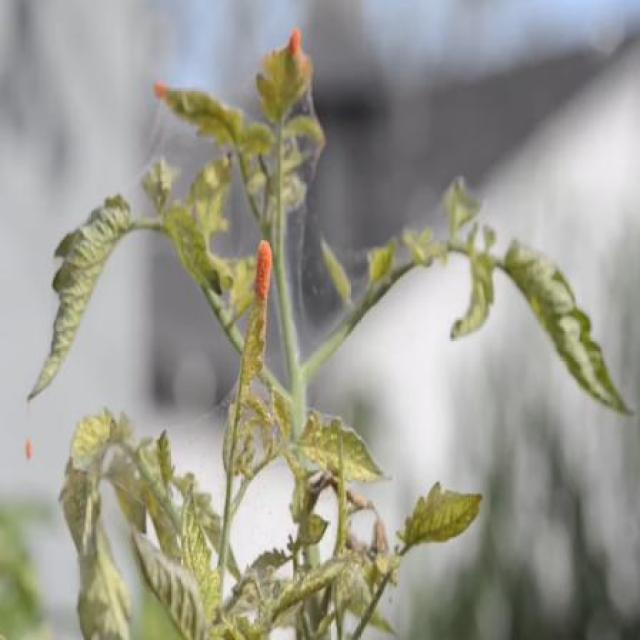Spider Mites: (297, 408, 392, 485), (394, 479, 484, 544), (182, 482, 222, 621)
